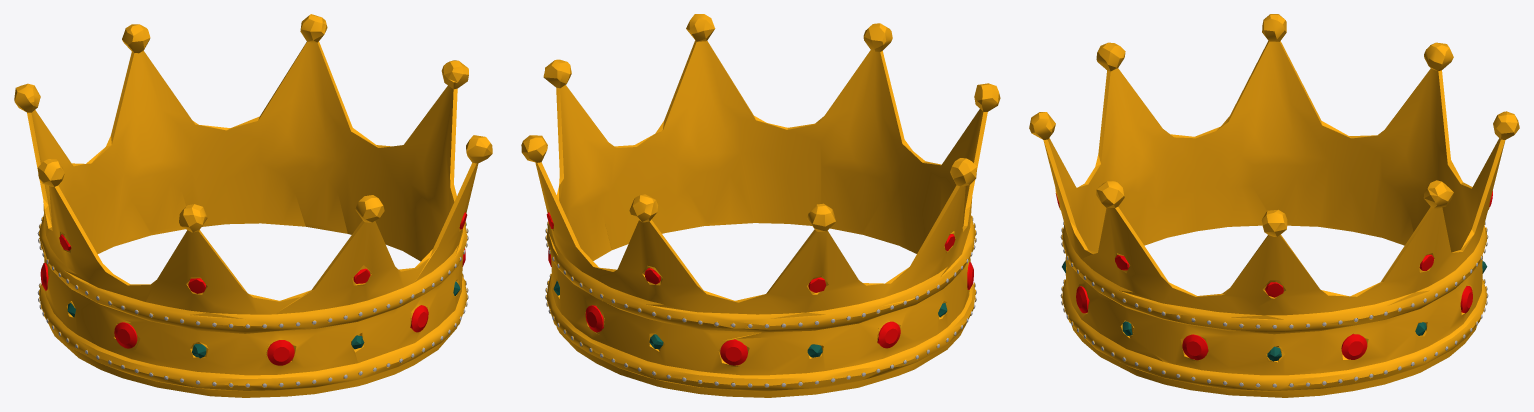
The model's file is Golden Crown.fbx.
3 renders of one model, left to right at view 1: azimuth 30°, elevation 25°; view 2: azimuth 150°, elevation 25°; view 3: azimuth 270°, elevation 25°, orthographic.
Parts seen in each view (by area): view 1: Golden_Crown, Golden_Crown_3, Golden_Crown_1, Golden_Crown_6, Golden_Crown_5, Golden_Crown_2, Golden_Crown_4, Golden_Crown_7; view 2: Golden_Crown, Golden_Crown_3, Golden_Crown_1, Golden_Crown_6, Golden_Crown_5, Golden_Crown_2, Golden_Crown_4, Golden_Crown_7; view 3: Golden_Crown, Golden_Crown_3, Golden_Crown_1, Golden_Crown_5, Golden_Crown_6, Golden_Crown_2, Golden_Crown_7, Golden_Crown_4.
Part boxes in pixels (box(x1,y1,x2,y2)): Golden_Crown: box(14, 14, 492, 397); Golden_Crown_3: box(40, 248, 465, 365); Golden_Crown_1: box(59, 212, 467, 293); Golden_Crown_6: box(37, 274, 468, 387); Golden_Crown_5: box(37, 217, 468, 328); Golden_Crown_2: box(67, 281, 460, 358); Golden_Crown_4: box(39, 217, 467, 328); Golden_Crown_7: box(39, 273, 467, 387); Golden_Crown: box(521, 14, 1000, 397); Golden_Crown_3: box(548, 248, 973, 365); Golden_Crown_1: box(546, 212, 955, 292); Golden_Crown_6: box(545, 274, 976, 387); Golden_Crown_5: box(545, 217, 976, 327); Golden_Crown_2: box(553, 281, 947, 357); Golden_Crown_4: box(546, 216, 975, 328); Golden_Crown_7: box(546, 273, 975, 387); Golden_Crown: box(1029, 14, 1519, 397); Golden_Crown_3: box(1076, 286, 1472, 360); Golden_Crown_1: box(1055, 191, 1492, 297); Golden_Crown_5: box(1060, 222, 1488, 328); Golden_Crown_6: box(1060, 279, 1488, 387); Golden_Crown_2: box(1062, 260, 1487, 361); Golden_Crown_7: box(1061, 279, 1487, 387); Golden_Crown_4: box(1061, 223, 1487, 329).
Size of the model in its own units: 20.85 by 9.27 by 20.85.
